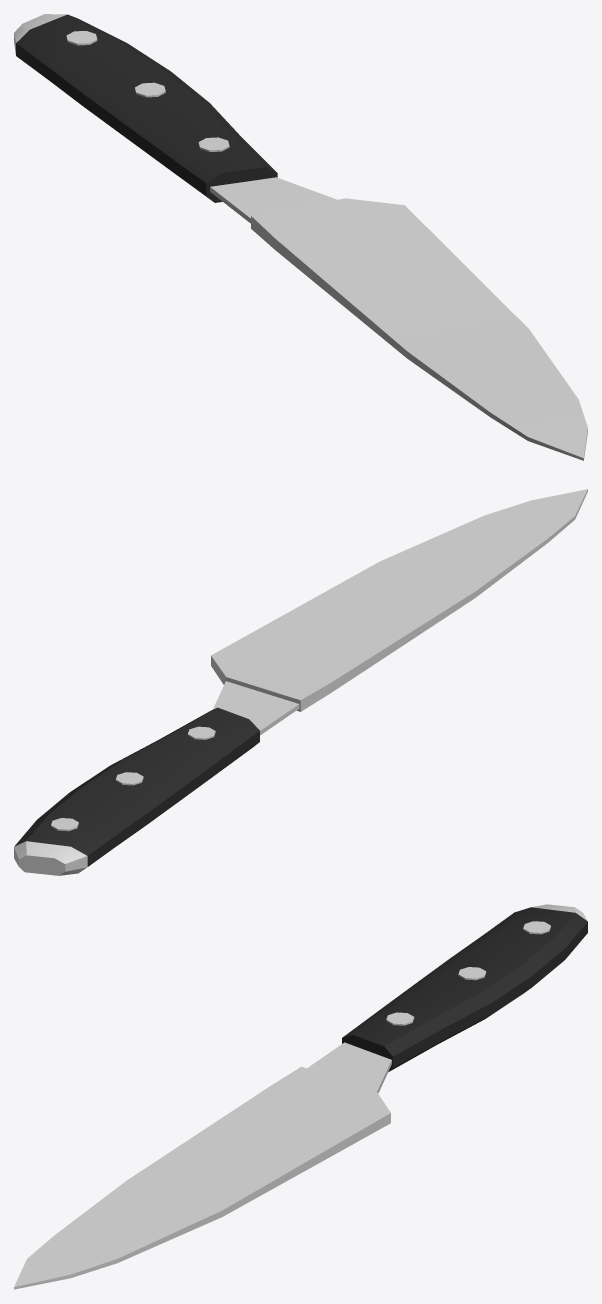
The model's file is Knife.fbx.
3 renders of one model, top to bottom at view 1: azimuth 30°, elevation 25°; view 2: azimuth 150°, elevation 25°; view 3: azimuth 330°, elevation 25°, orthographic. The views are drawn at different scales.
Parts seen in each view (by area): view 1: ChefsKnife_01; view 2: ChefsKnife_01; view 3: ChefsKnife_01.
Part boxes in pixels (bbox=[...]): ChefsKnife_01: bbox=[14, 14, 587, 460]; ChefsKnife_01: bbox=[14, 489, 587, 875]; ChefsKnife_01: bbox=[14, 904, 587, 1289].
Size of the model in its own units: 4.8 by 1.03 by 33.32.
